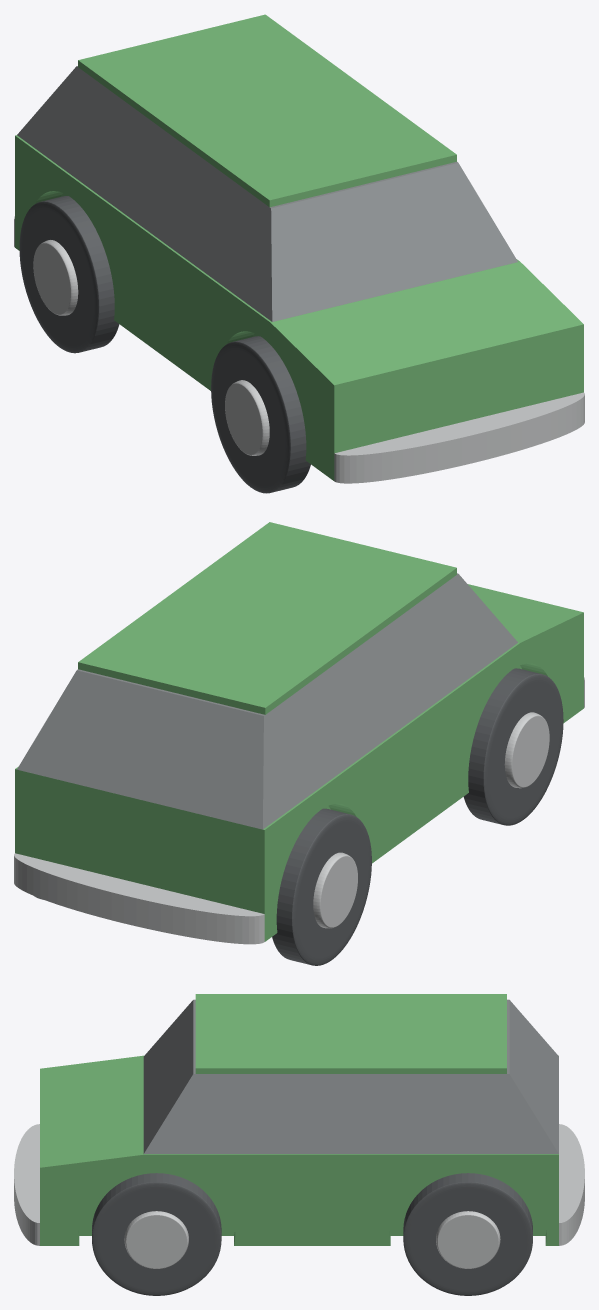
The model's file is car.glb.
3 renders of one model, top to bottom at view 1: azimuth 30°, elevation 25°; view 2: azimuth 150°, elevation 25°; view 3: azimuth 270°, elevation 25°, orthographic. The views are drawn at different scales.
Visible parts, largest first — view 1: Mesh_Mesh_head_geo.001_lambert2SG.001; view 2: Mesh_Mesh_head_geo.001_lambert2SG.001; view 3: Mesh_Mesh_head_geo.001_lambert2SG.001.
Boxes of the visible parts, <box> form: Mesh_Mesh_head_geo.001_lambert2SG.001: <box>14,14,584,493</box>; Mesh_Mesh_head_geo.001_lambert2SG.001: <box>14,522,584,965</box>; Mesh_Mesh_head_geo.001_lambert2SG.001: <box>14,994,584,1295</box>.
Size of the model in its own units: 0.1275 by 0.11 by 0.27.
